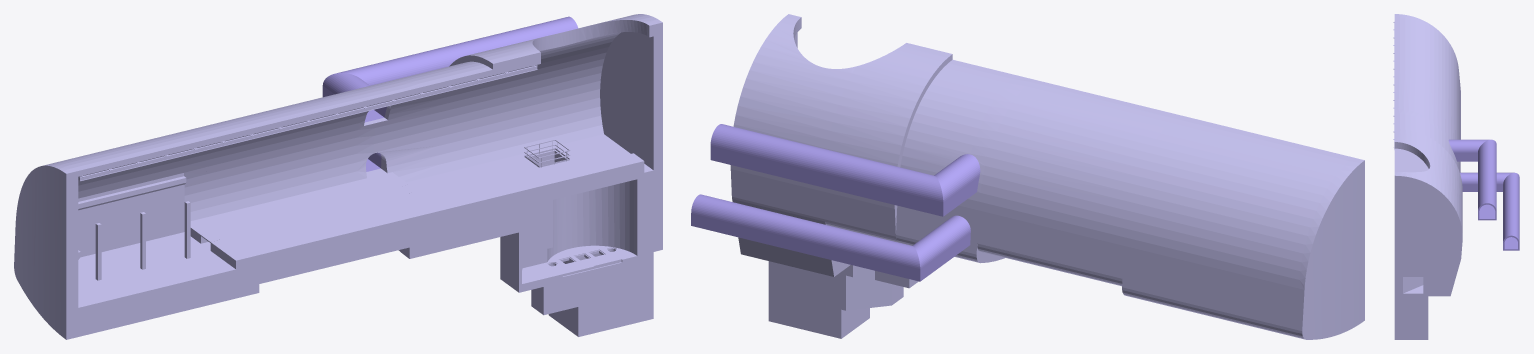
File: USA15-cut1.glb
3 renders of one model, left to right at view 1: azimuth 30°, elevation 25°; view 2: azimuth 150°, elevation 25°; view 3: azimuth 270°, elevation 25°, orthographic. The views are drawn at different scales.
Visible parts, largest first — view 1: null; view 2: null; view 3: null.
Boxes of the visible parts, box(x1,y1,x2,y2) form: null: box(14, 14, 662, 339); null: box(691, 14, 1364, 339); null: box(1393, 14, 1519, 339).
Size of the model in its own units: 64.27 by 30.28 by 20.75.
